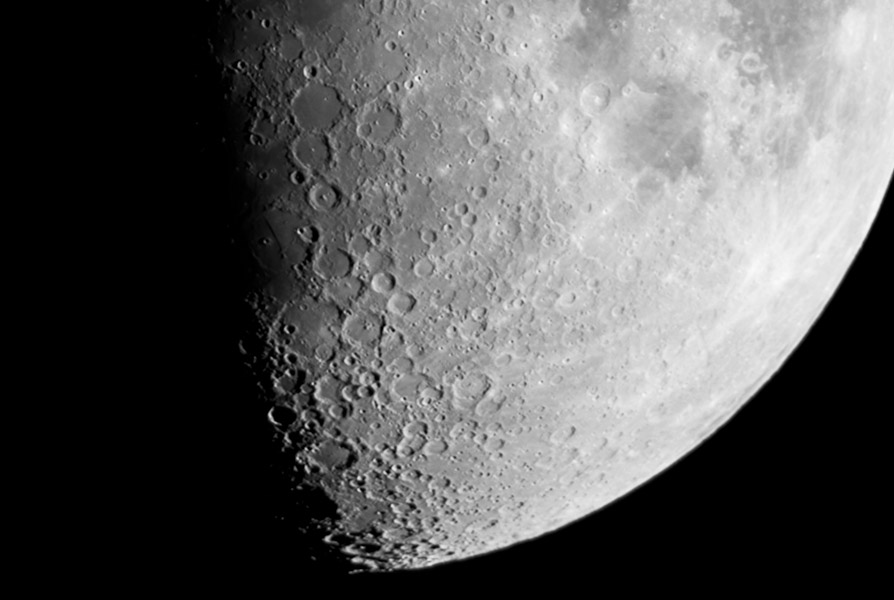crater: (349, 96, 416, 148), (297, 171, 354, 222), (387, 366, 443, 413), (446, 368, 497, 412), (578, 80, 621, 121), (262, 400, 306, 436), (607, 246, 644, 285), (366, 266, 400, 295), (275, 315, 310, 340), (487, 2, 525, 24), (601, 297, 632, 319), (378, 37, 402, 60)
